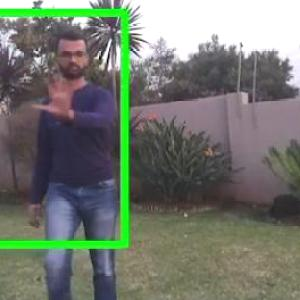follow_hand: (30, 67, 82, 121)
